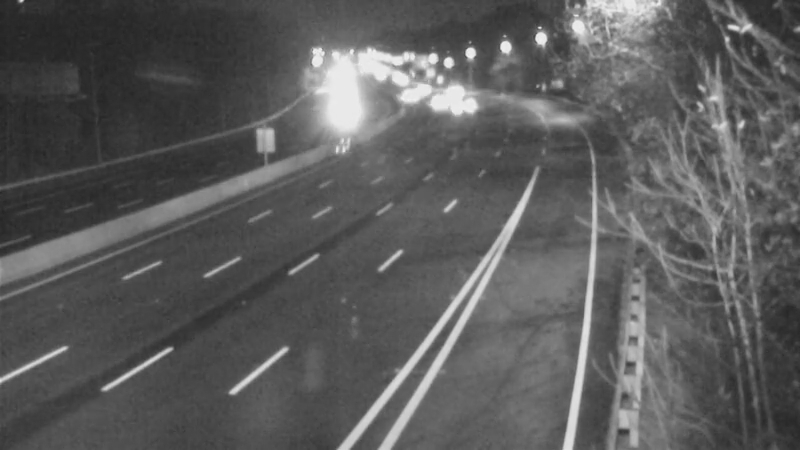vehicle: (393, 74, 443, 124), (415, 73, 465, 123), (437, 87, 487, 137)
